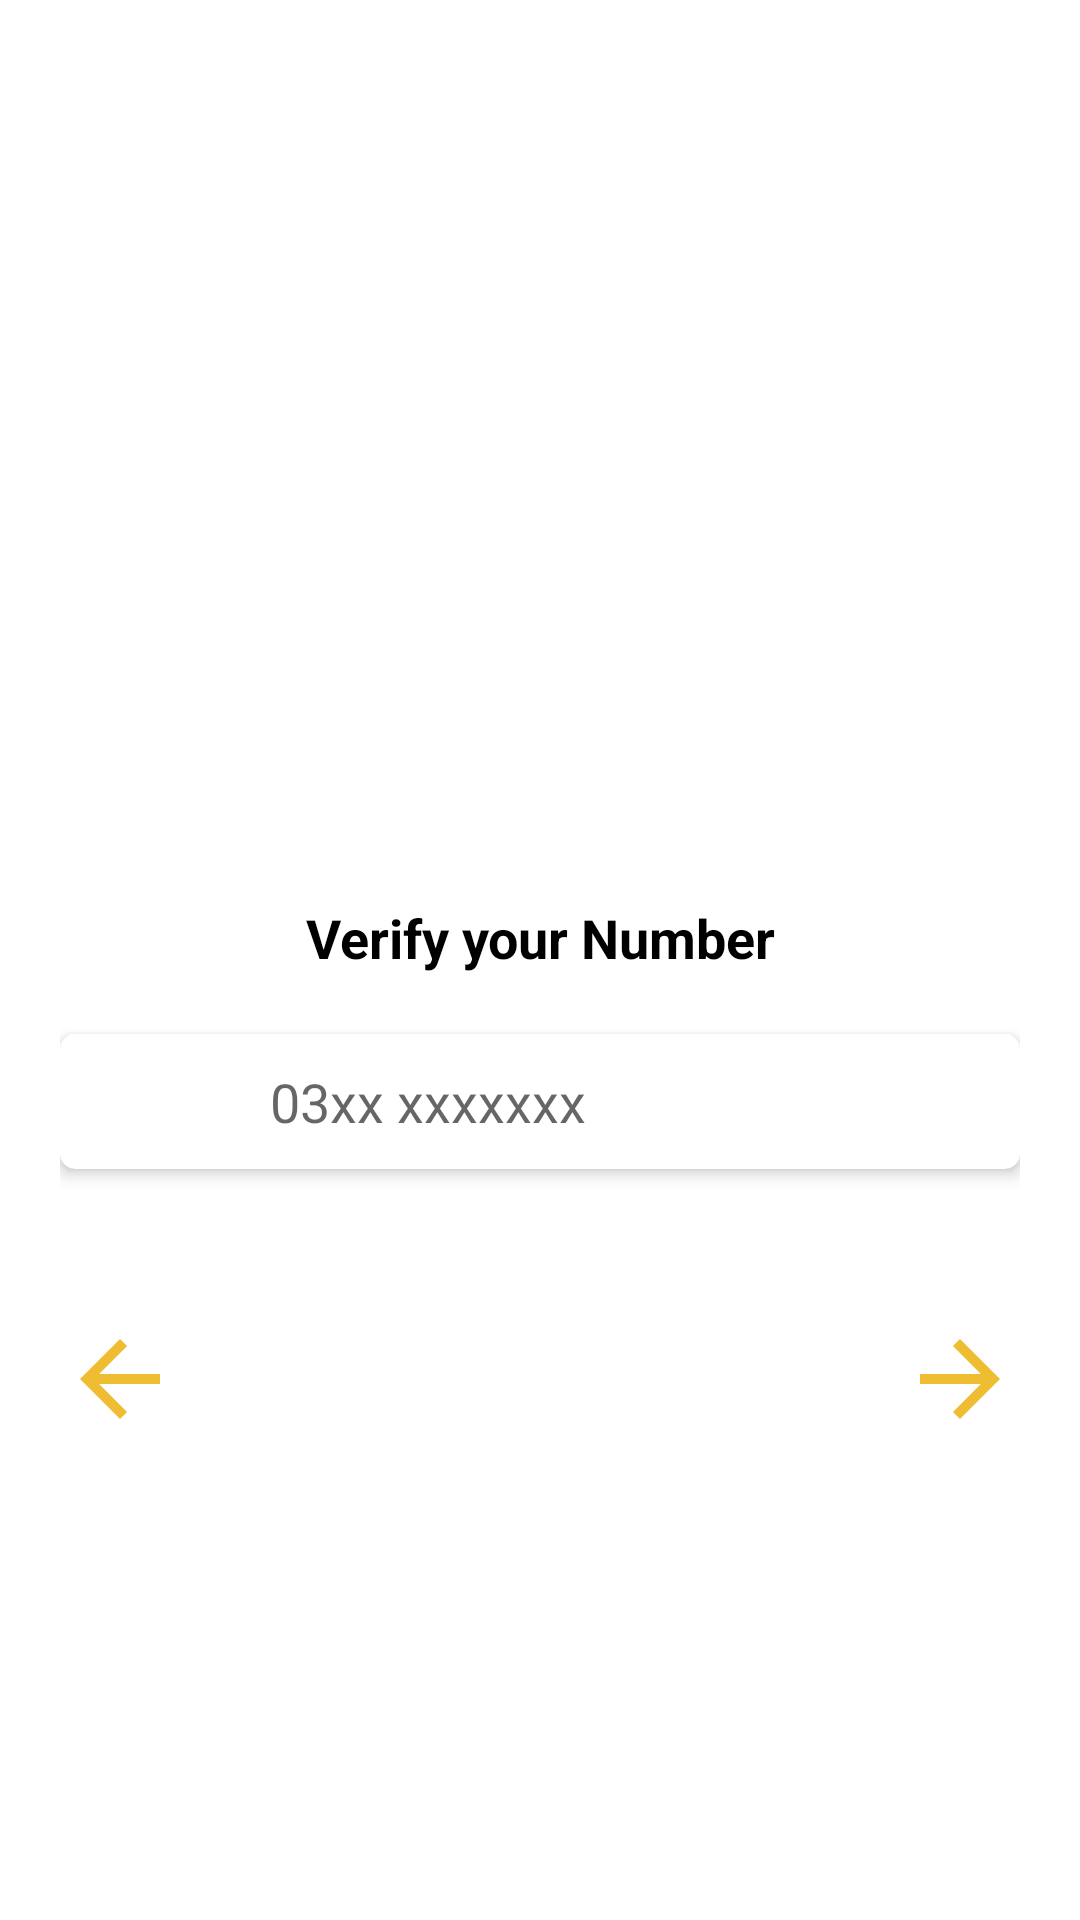

Icons on this 1080px x 1920px Android screen, each with its box as (x1, y1, x2, y2):
arrow back: (80, 1339, 160, 1419)
arrow forward: (920, 1339, 1000, 1419)
